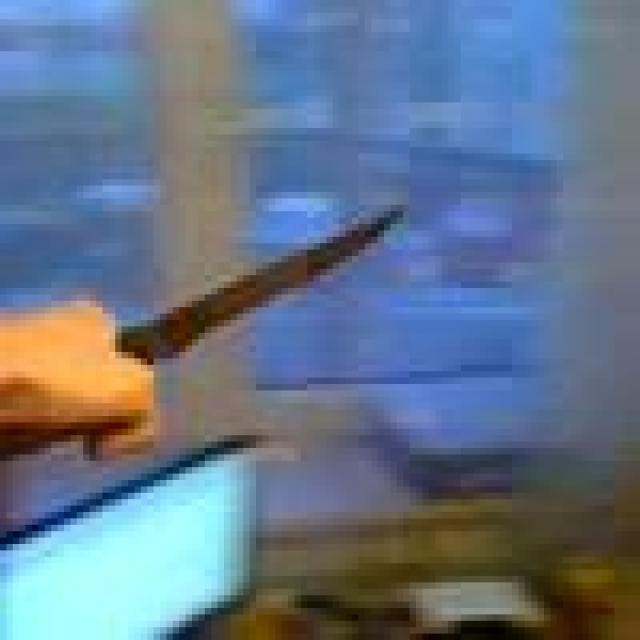faca: (13, 179, 429, 486)
